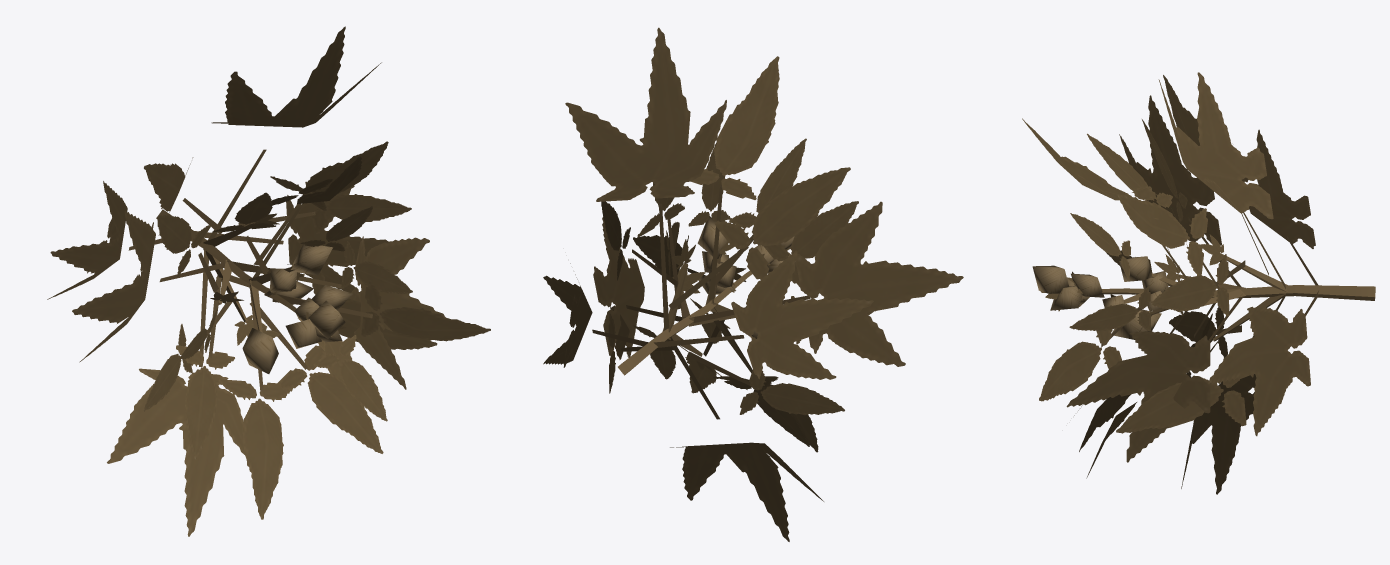
The model's file is p_male_auto_preflower_c3_cards.obj.
3 views of the same model, side by side, from view 1: azimuth 30°, elevation 25°; view 2: azimuth 150°, elevation 25°; view 3: azimuth 270°, elevation 25° (orthographic). The views are drawn at different scales.
Size of the model in its own units: 1.16 by 1.4 by 0.854.
Materials: 1 (1 with a texture image).
